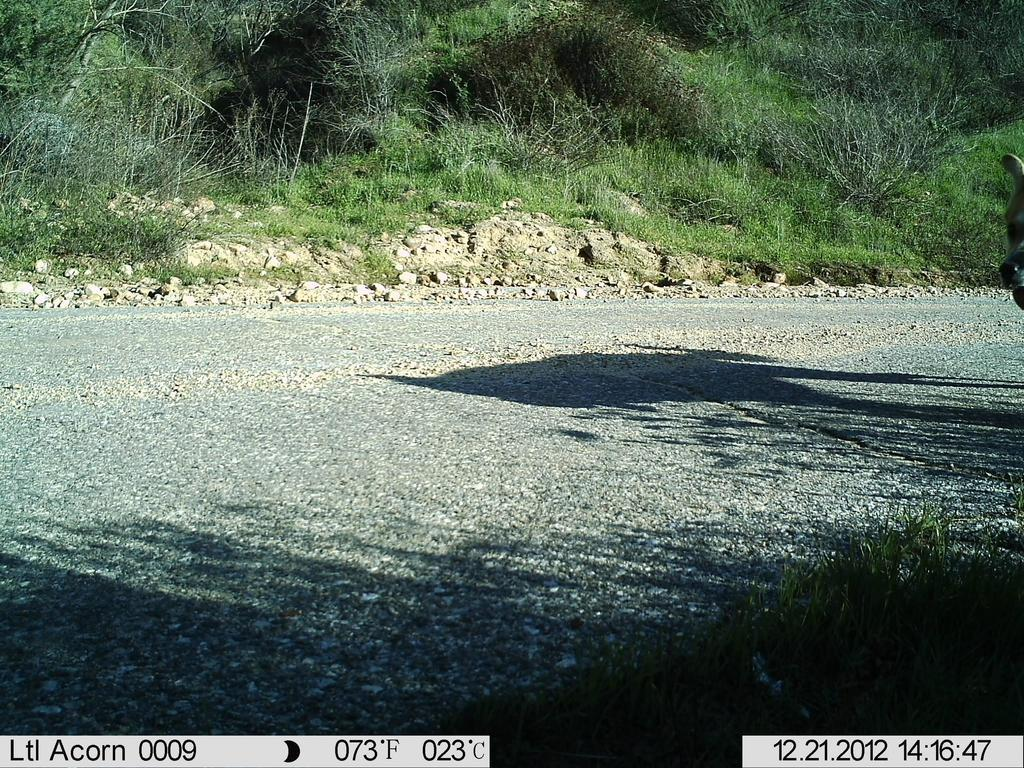dog: (989, 150, 1023, 317)
